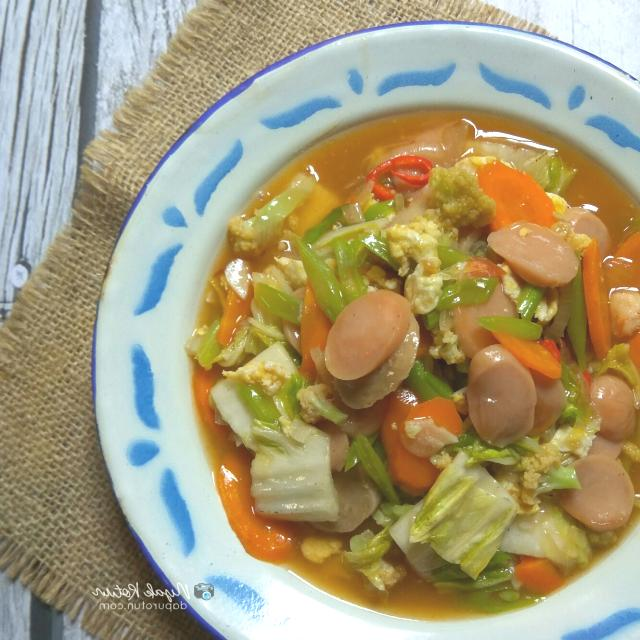capcay: (188, 119, 640, 598)
